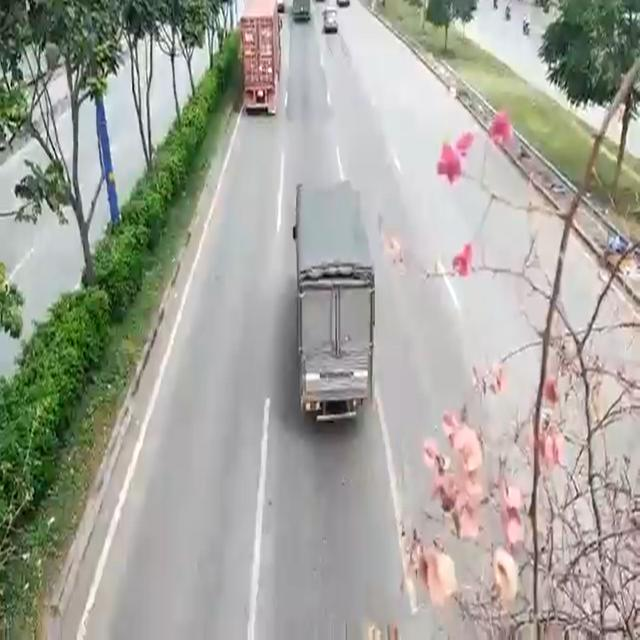truck: (296, 187, 369, 416), (242, 0, 278, 108)
